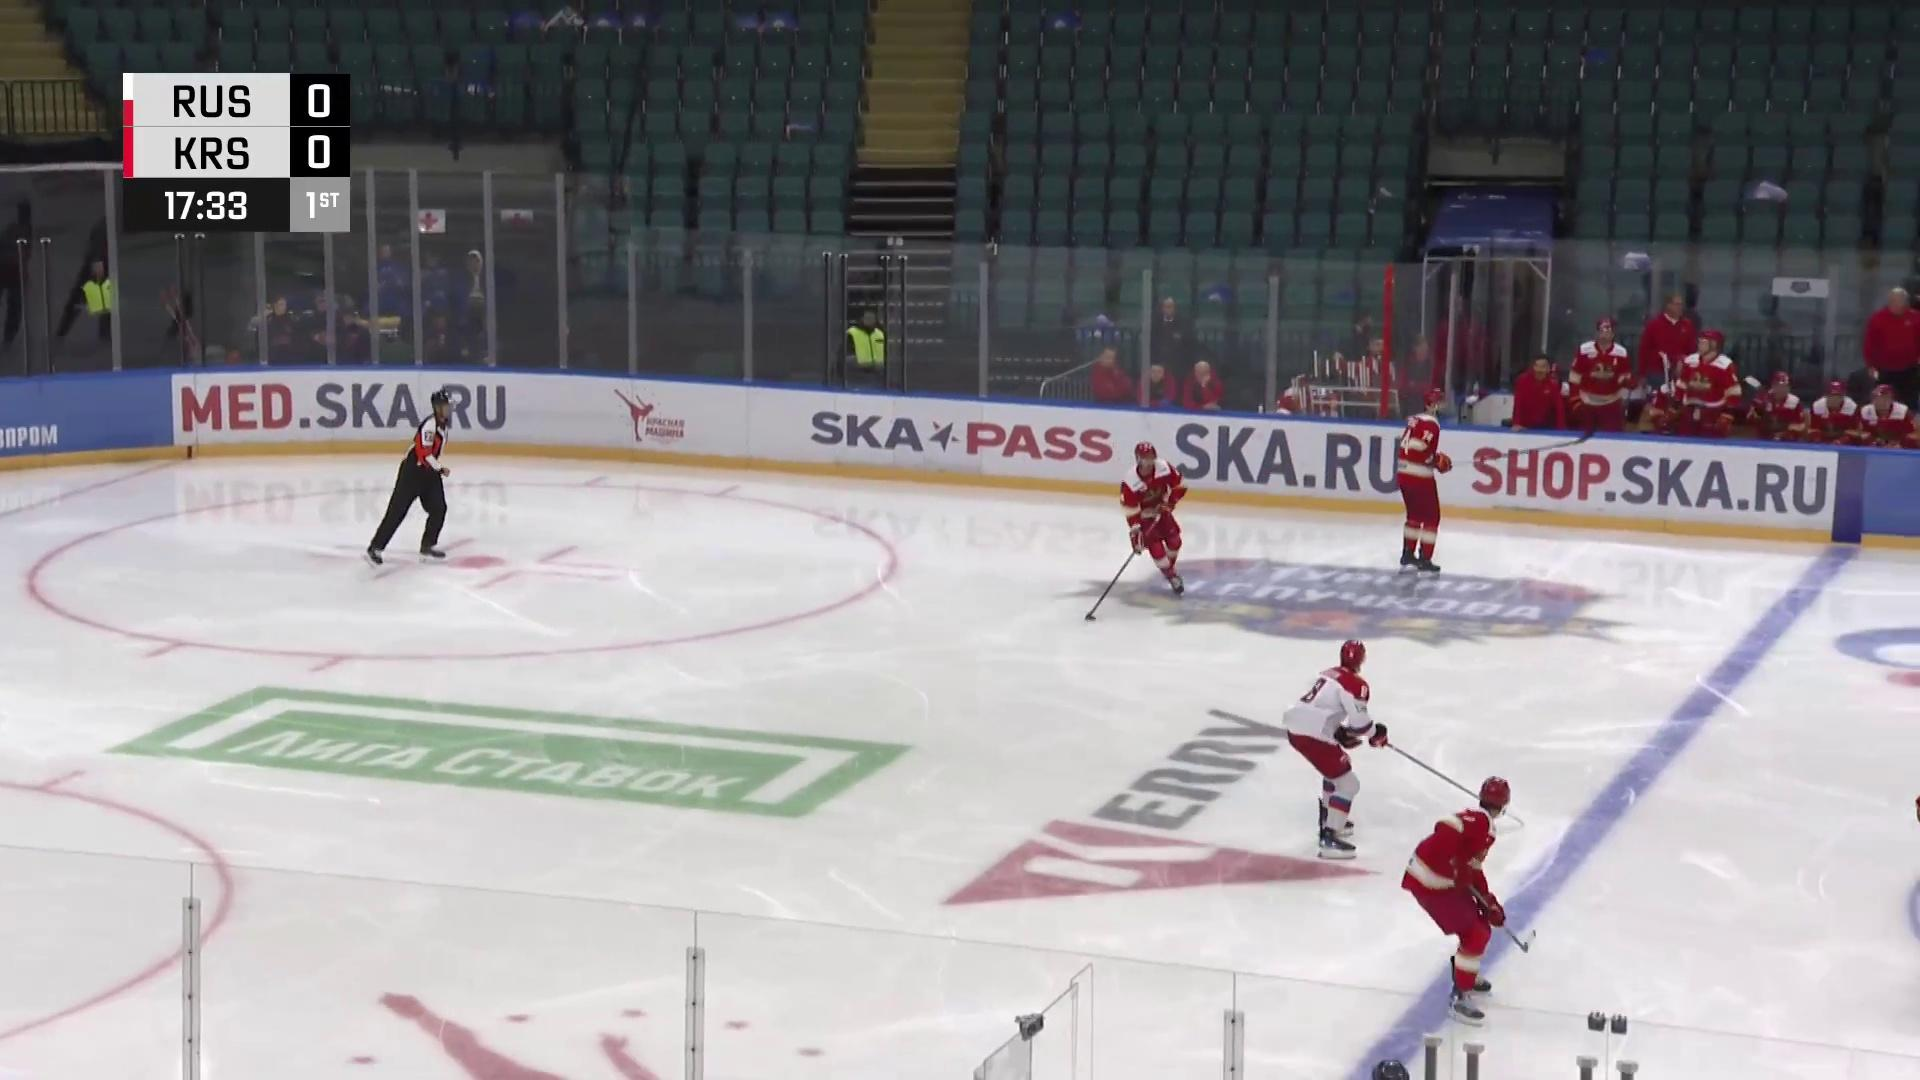ball: (1088, 615, 1098, 624)
